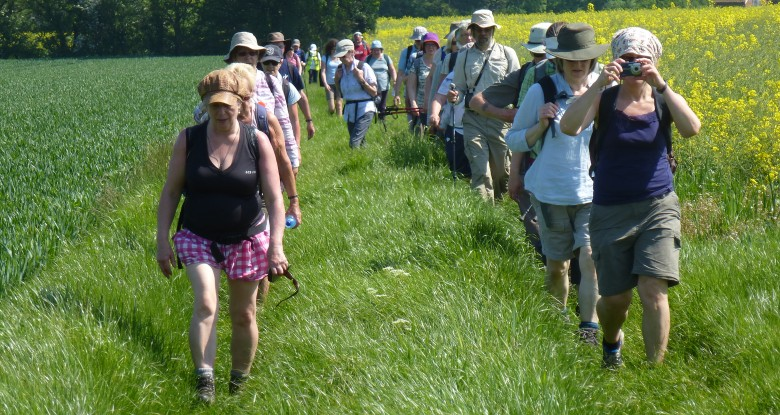feet: (593, 330, 670, 387), (546, 293, 600, 358), (183, 360, 258, 406)
